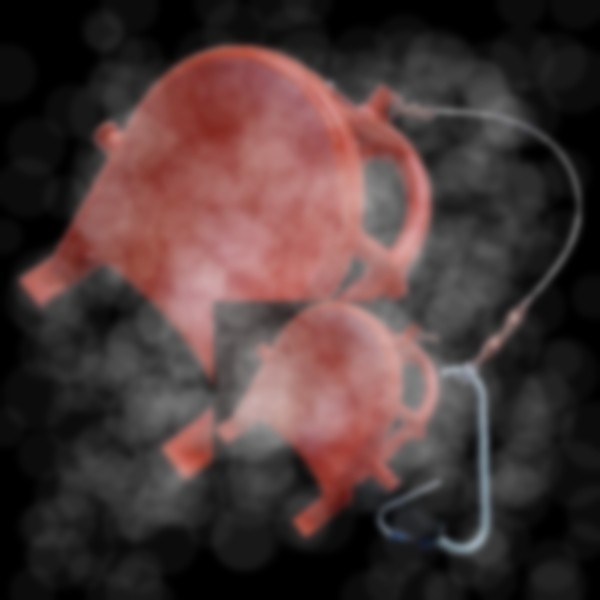chock: (14, 45, 436, 484), (213, 301, 441, 540)
